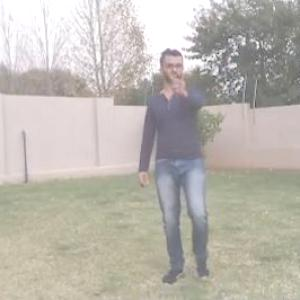takeoff-hand: (165, 65, 193, 100)
